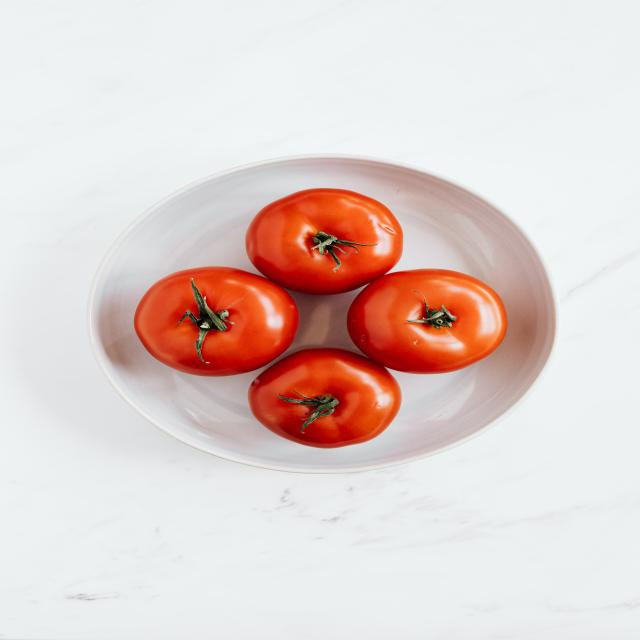Tomato: (221, 184, 403, 292), (119, 267, 297, 375), (358, 271, 512, 376), (265, 352, 409, 446)
